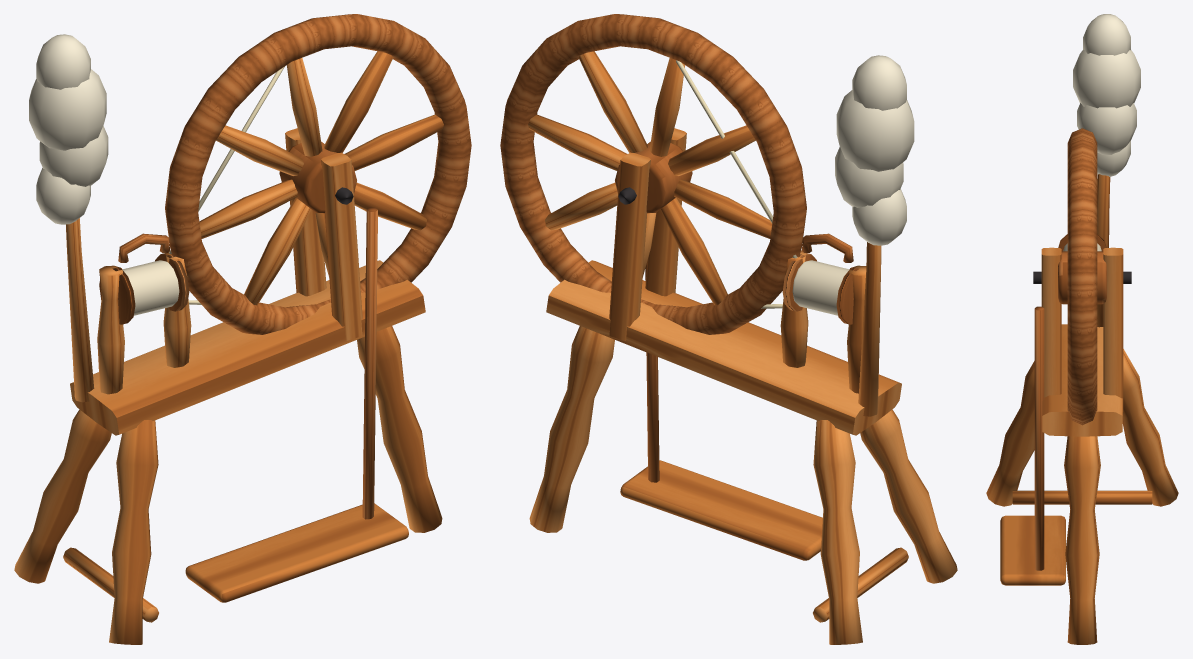
Rendered from spinning_wheel.glb.
3 views of the same model, side by side, from view 1: azimuth 30°, elevation 25°; view 2: azimuth 150°, elevation 25°; view 3: azimuth 270°, elevation 25° (orthographic). The views are drawn at different scales.
Visible parts, largest first — view 1: model; view 2: model; view 3: model.
Boxes of the visible parts, left/top/right/bottom form: model: left=14, top=14, right=471, bottom=644; model: left=500, top=14, right=957, bottom=644; model: left=986, top=14, right=1178, bottom=644.
Bounding box in the file's own units: 1.01 × 1.31 × 0.469.
6 materials, 2 textured.
